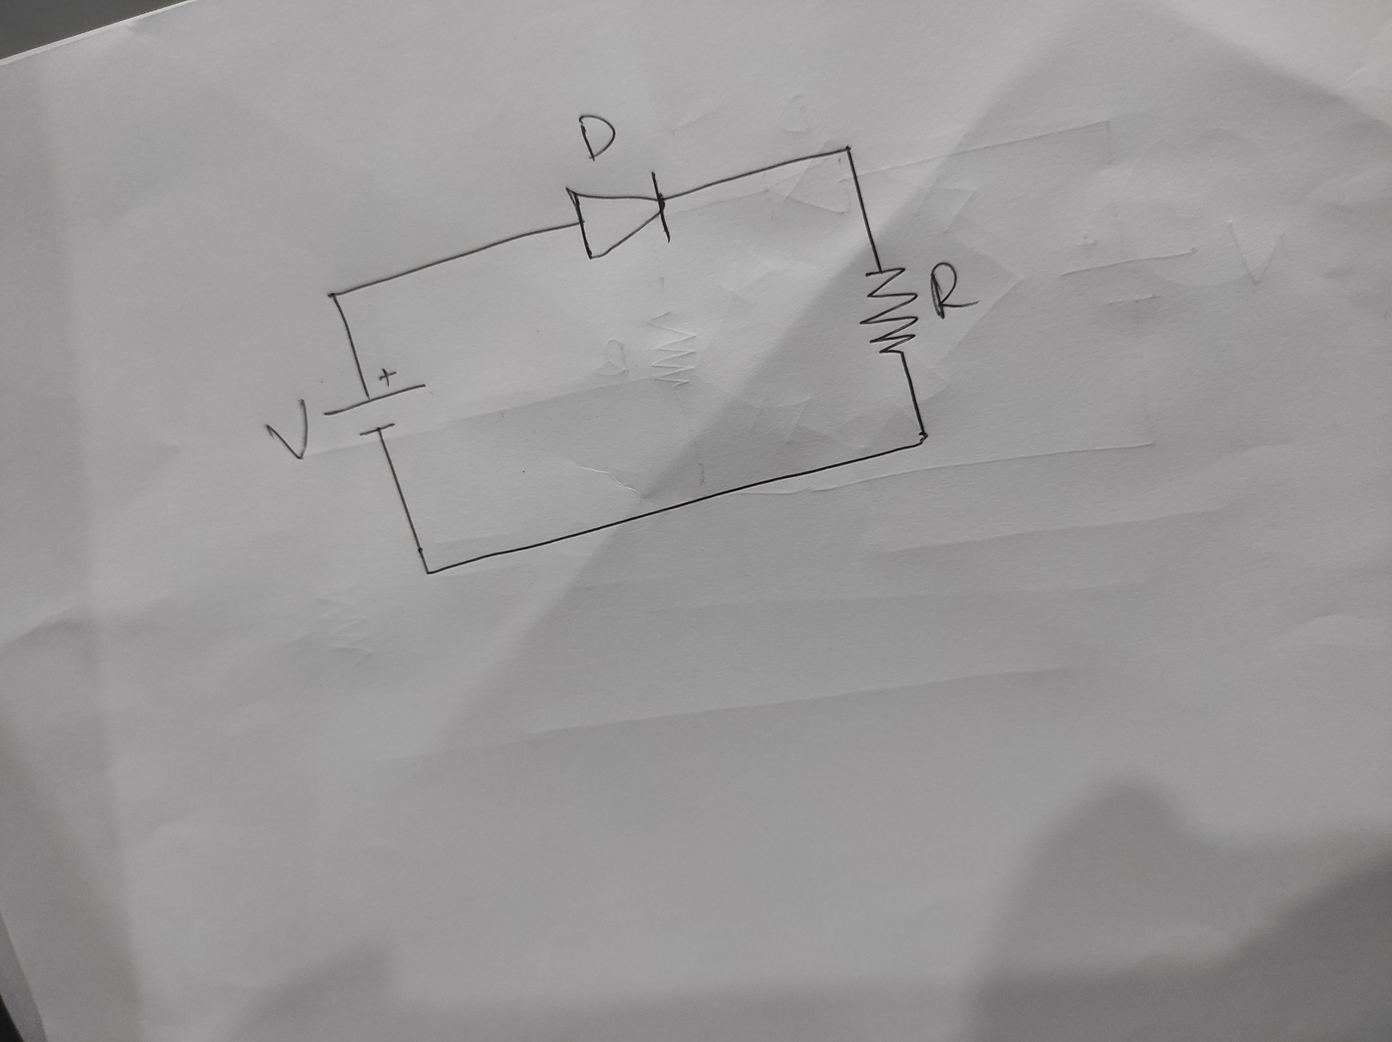diode: (564, 167, 676, 263)
junction: (414, 560, 440, 582), (909, 428, 933, 451), (836, 139, 859, 162), (323, 286, 343, 306)
resistor: (855, 264, 923, 358)
text: (260, 397, 313, 463), (927, 259, 981, 322), (576, 109, 617, 163)
voltage.dc: (320, 366, 428, 438)
